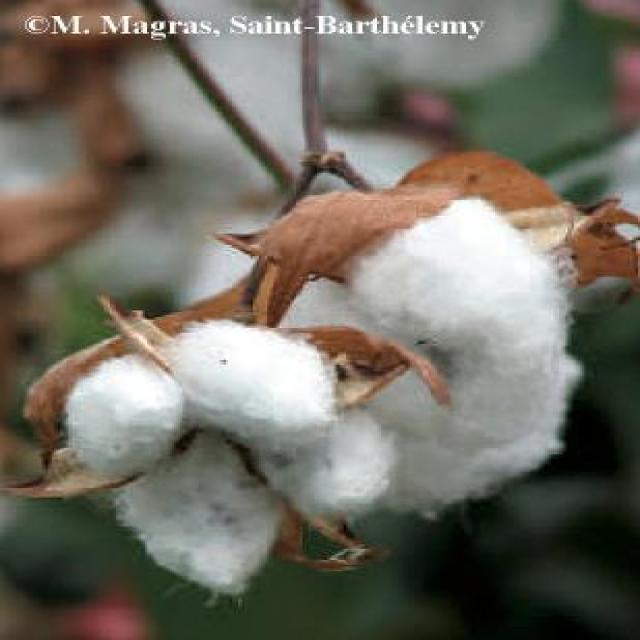Late_blight: (272, 176, 580, 521), (41, 318, 386, 594)
